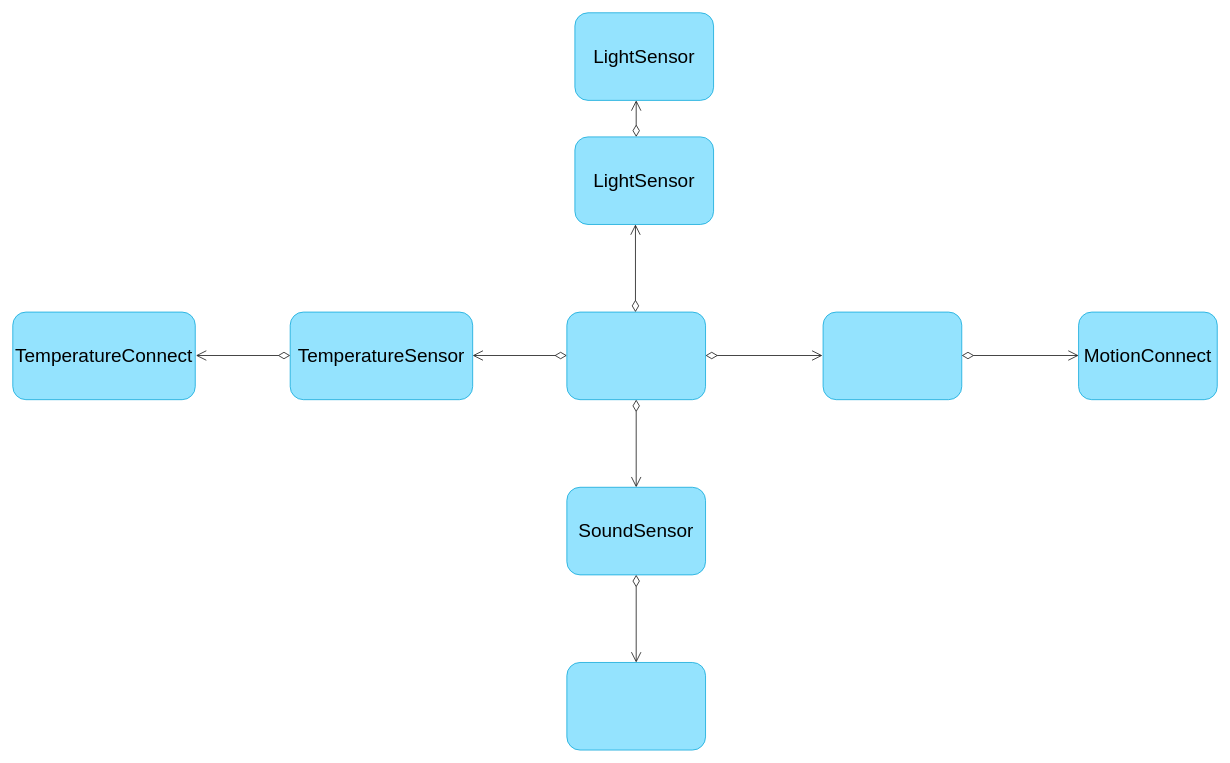
Image size: 1230x763. Some labels were removed from this diagram. Here are the shapes that lost their labels. From the top down, the centre of each, then its label:
the point at 636,355: Main
the point at 892,355: MotionSensor
the point at 636,706: SoundConnect
